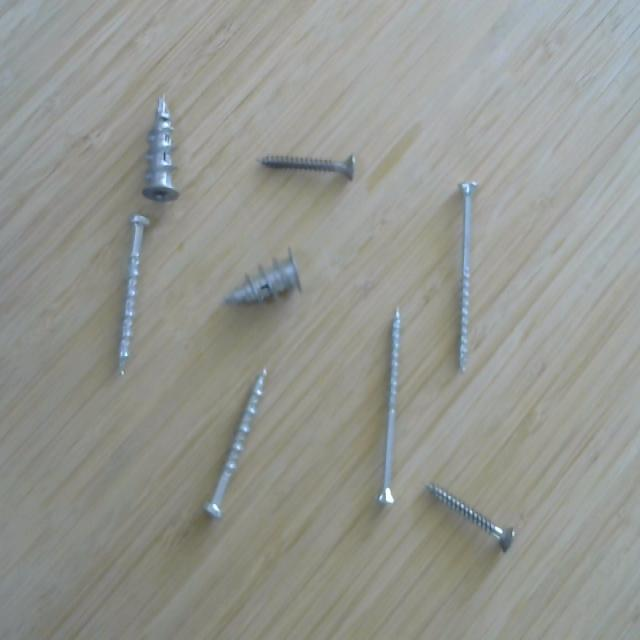Black screw: (421, 469, 521, 557), (256, 149, 359, 185)
Long screw: (372, 297, 410, 509), (451, 173, 481, 377)
Medium screw: (196, 358, 275, 523), (113, 206, 154, 386)
Short screw: (219, 240, 310, 319), (137, 87, 185, 201)
